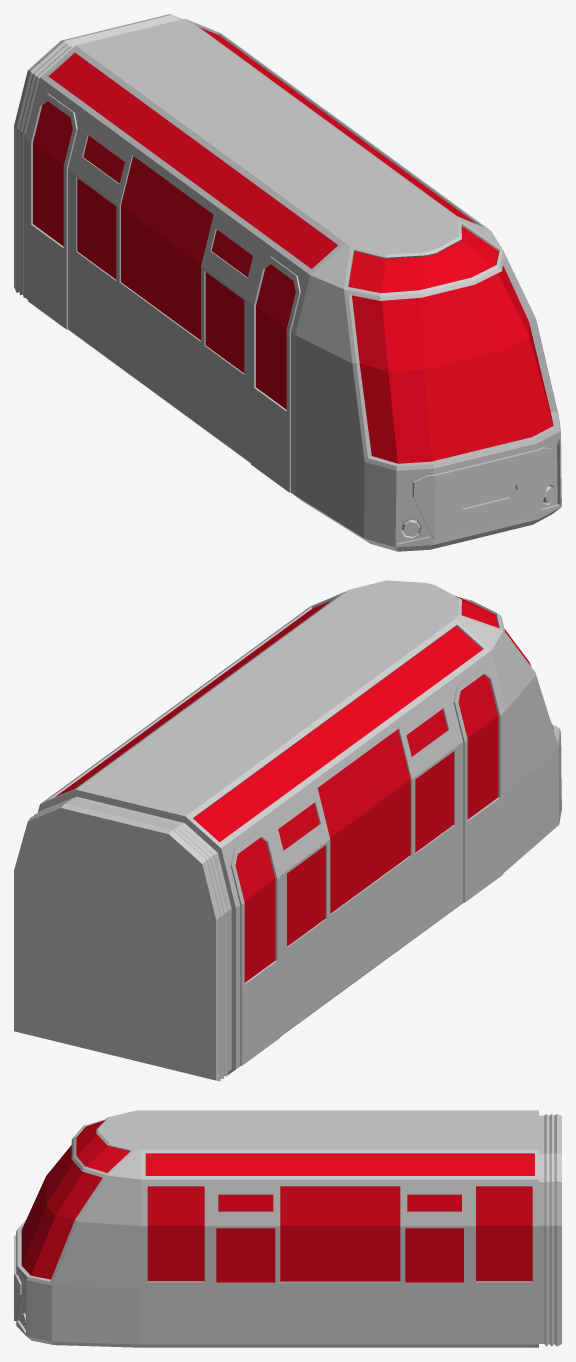
File: SM_tram_01.gltf
3 renders of one model, top to bottom at view 1: azimuth 30°, elevation 25°; view 2: azimuth 150°, elevation 25°; view 3: azimuth 270°, elevation 25°, orthographic. The views are drawn at different scales.
Parts seen in each view (by area): view 1: tram_01; view 2: tram_01; view 3: tram_01.
Part boxes in pixels (left/top/right/bottom): tram_01: left=14, top=14, right=561, bottom=551; tram_01: left=14, top=580, right=561, bottom=1081; tram_01: left=14, top=1110, right=561, bottom=1347.
Size of the model in its own units: 1.63 by 1.82 by 4.94.
